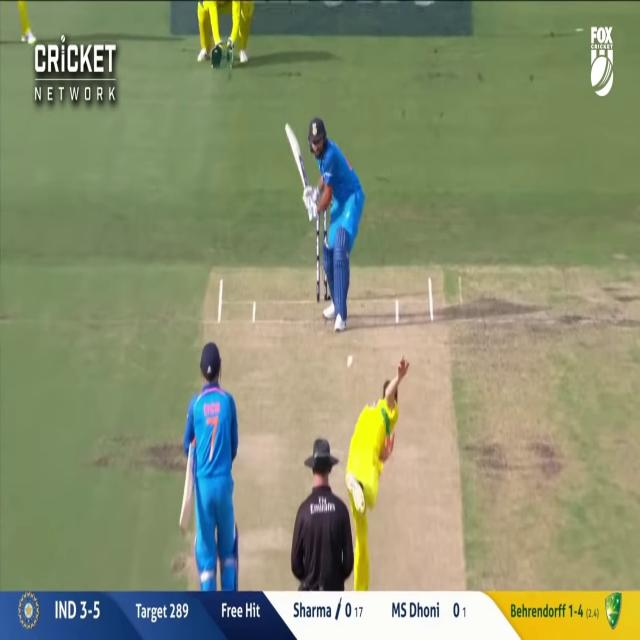ball: (346, 358, 353, 370)
stump: (316, 201, 330, 290)
